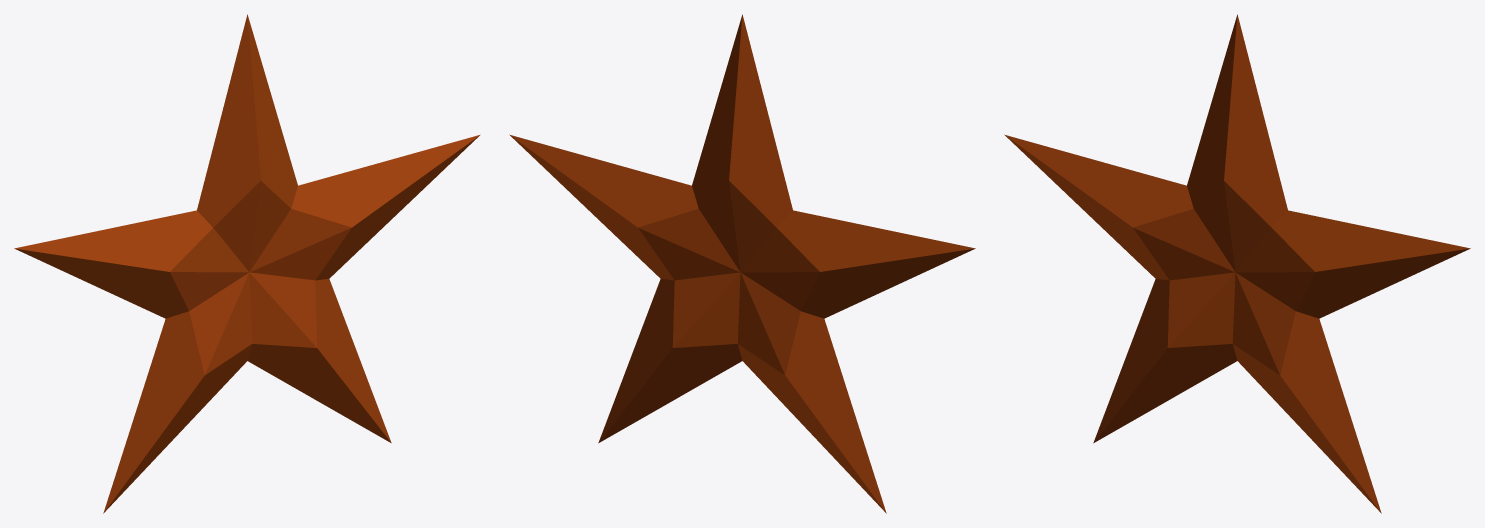
Rendered from Simple star.obj.
3 renders of one model, left to right at view 1: azimuth 30°, elevation 25°; view 2: azimuth 150°, elevation 25°; view 3: azimuth 330°, elevation 25°, orthographic.
Visible parts, largest first — view 1: Sphere; view 2: Sphere; view 3: Sphere.
Part boxes in pixels (x1,y1,x2,y2): Sphere: (14,14,480,513); Sphere: (509,14,975,513); Sphere: (1004,14,1470,513).
Bounding box in the file's own units: 3.16 × 3.01 × 0.3163.
